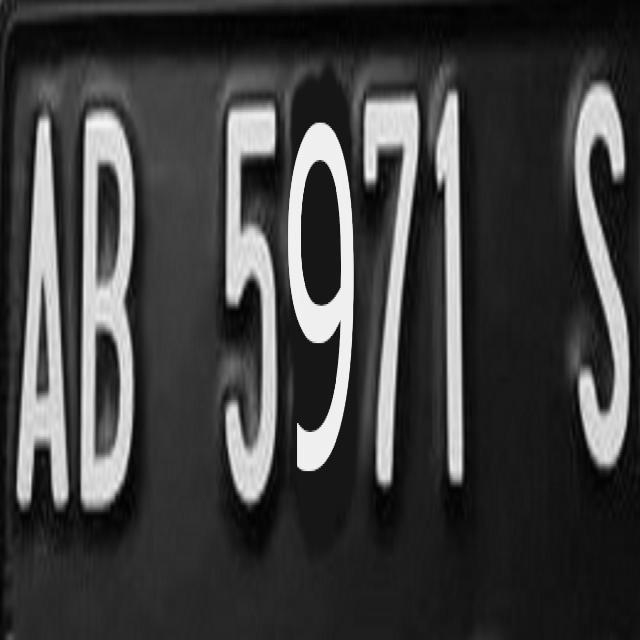1: (426, 73, 492, 503)
5: (210, 73, 284, 511)
7: (348, 86, 422, 514)
9: (283, 103, 355, 504)
A: (8, 98, 73, 514)
B: (70, 100, 162, 519)
S: (560, 63, 640, 481)
